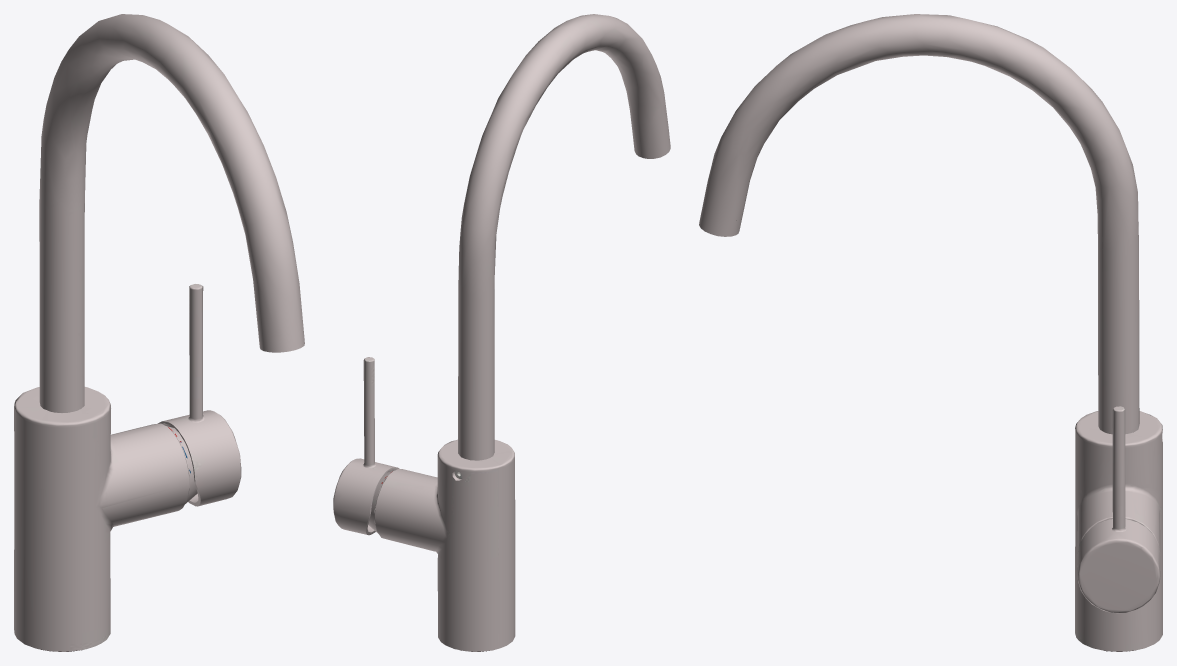
The model's file is sallsjon_bateria_kuchenna_z_uchwytem_z_boku_70600904.glb.
3 views of the same model, side by side, from view 1: azimuth 30°, elevation 25°; view 2: azimuth 150°, elevation 25°; view 3: azimuth 270°, elevation 25° (orthographic). The views are drawn at different scales.
Parts seen in each view (by area): view 1: sallsjon_bateria_kuchenna_z_uchwytem_z_boku_70600904; view 2: sallsjon_bateria_kuchenna_z_uchwytem_z_boku_70600904; view 3: sallsjon_bateria_kuchenna_z_uchwytem_z_boku_70600904.
Part boxes in pixels (box(x1,y1,x2,y2)): sallsjon_bateria_kuchenna_z_uchwytem_z_boku_70600904: box(14, 14, 304, 651); sallsjon_bateria_kuchenna_z_uchwytem_z_boku_70600904: box(333, 14, 670, 651); sallsjon_bateria_kuchenna_z_uchwytem_z_boku_70600904: box(699, 14, 1162, 651).
Bounding box in the file's own units: 0.11 × 0.3586 × 0.2438.
Materials: 1 (1 with a texture image).
